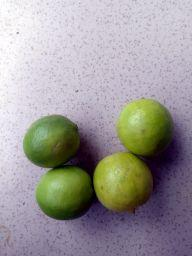lemon: (92, 149, 156, 219), (115, 96, 175, 160), (34, 163, 96, 223), (21, 112, 82, 170)
